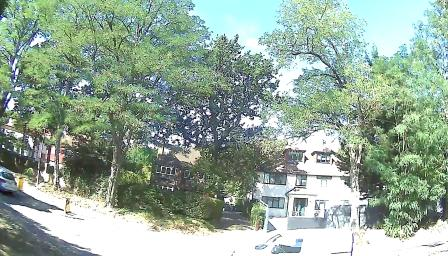Car_Four_Wheels: (220, 212, 372, 256)
